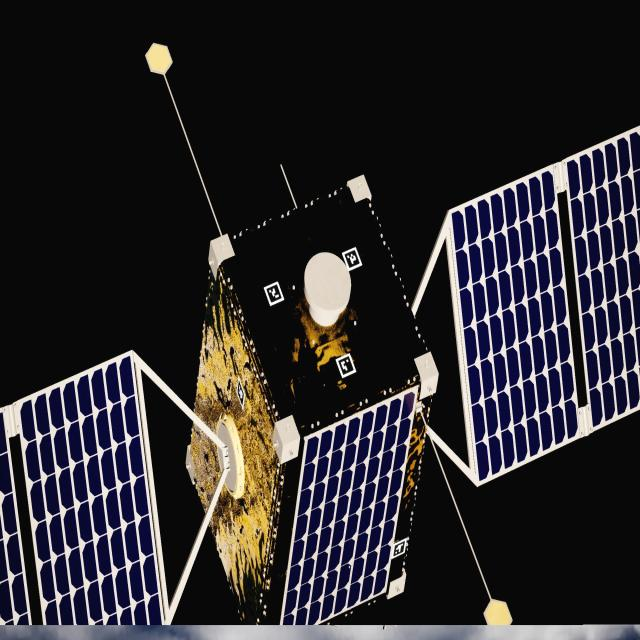medium_debris: (0, 125, 640, 629)
